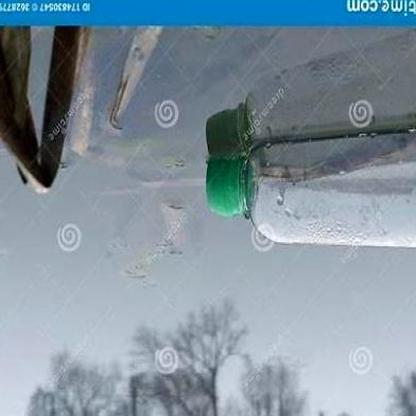plastic bottle: (204, 133, 415, 251)
